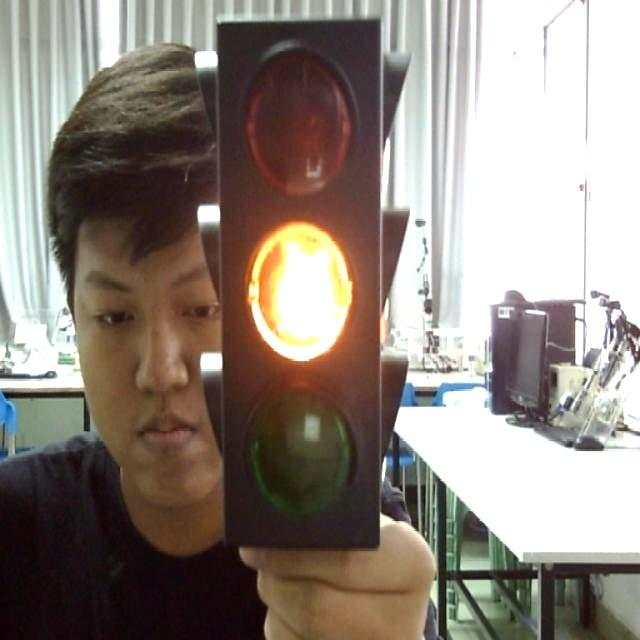Yellow: (214, 8, 398, 564)
